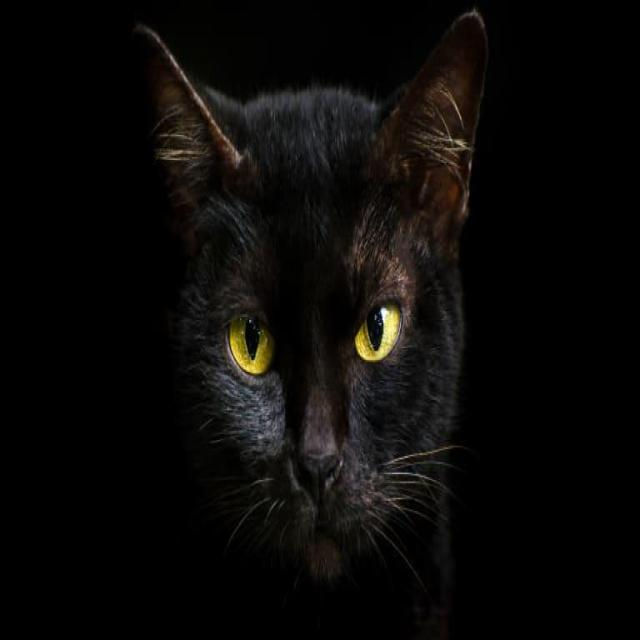Cat: (113, 2, 504, 568)
